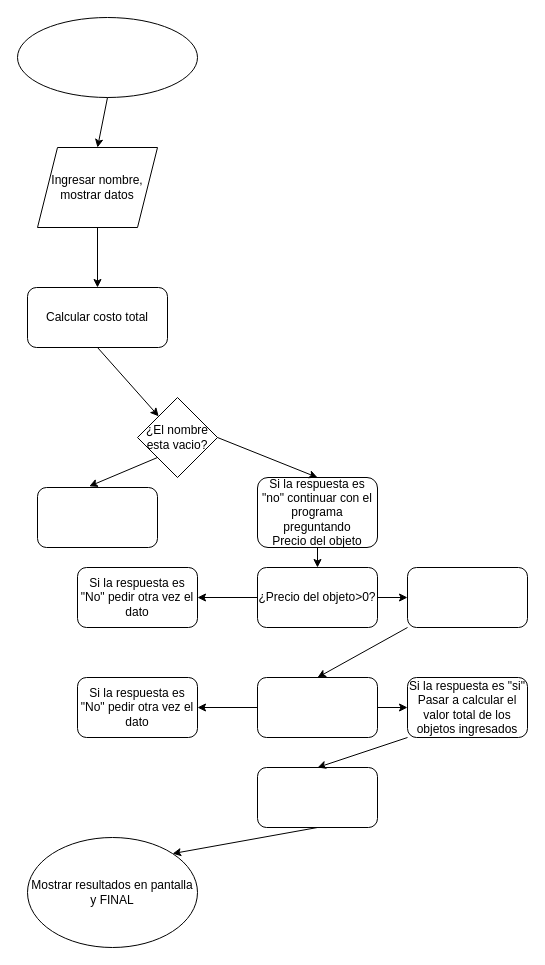
The diagram is 545 pixels wide and 965 high, and some of its shapes have lost their labels. Here are the shapes that lost their labels. From the top down, the centre of each, then its label:
the point at 107,57: Inicio
the point at 97,517: Si la respuesta es "si " mostrar error
the point at 467,597: Si la respuesta es "si" Pasar a pedir la cantidad
the point at 317,707: ¿Cantidad >0?
the point at 317,797: Calcular (precio * cantidad)
